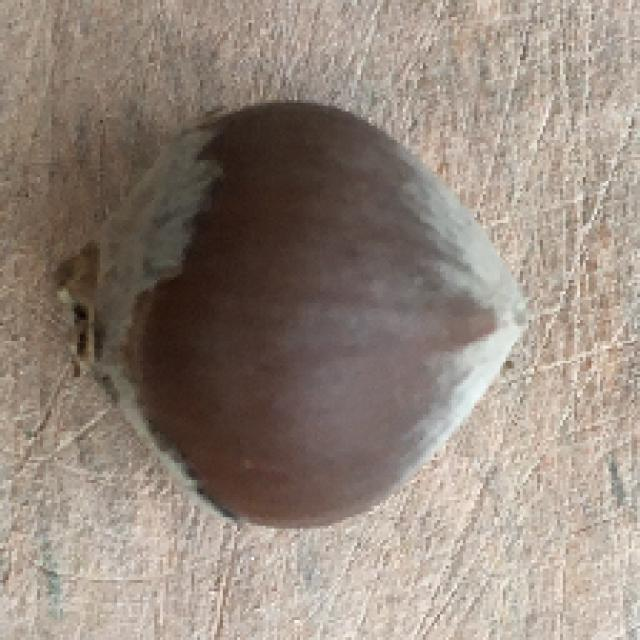DamagedHazelnut: (65, 104, 530, 527)
